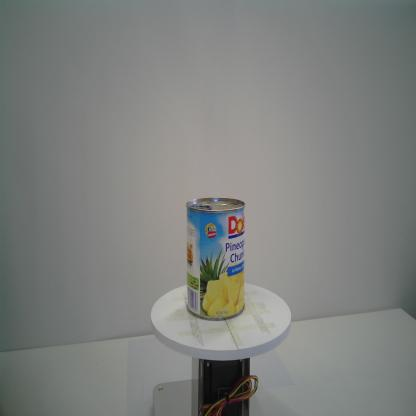Canned Food: (186, 197, 246, 322)
